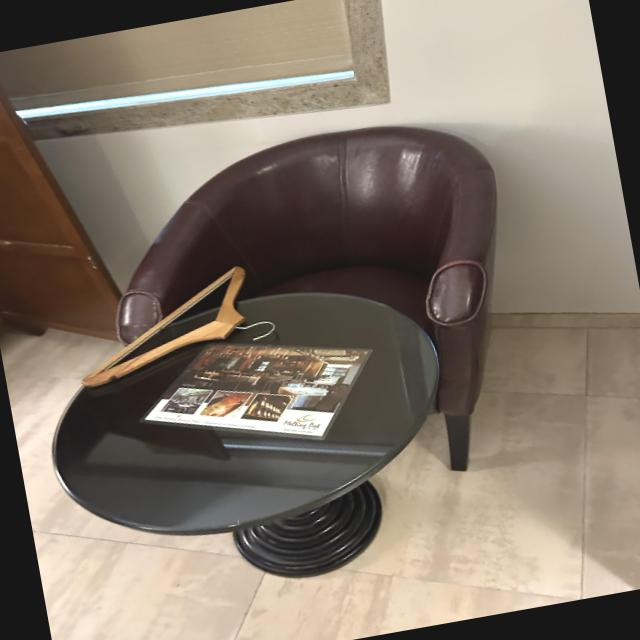mess: (29, 258, 496, 602)
